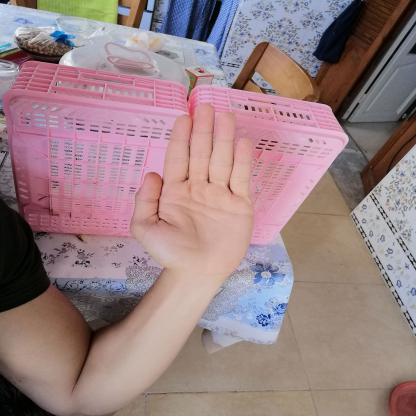SEEN: (120, 96, 263, 287)
